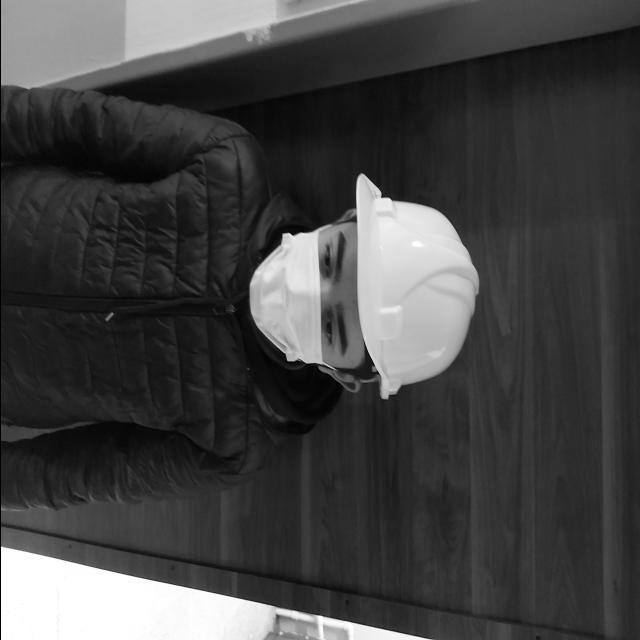construction helmet: (350, 172, 478, 401)
